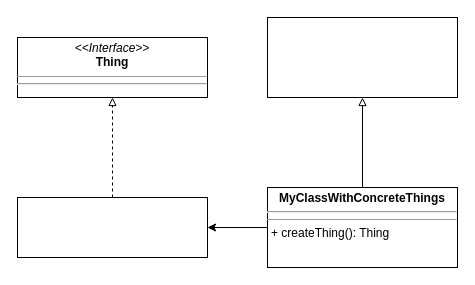
The diagram is 475 pixels wide and 285 high, and some of its shapes have lost their labels. Here are the shapes that lost their labels. From the top down, the centre of each, then its label:
At point (362, 57): "MyClass + createThing(): Thing + operationThatNeedsThing()".
At point (112, 227): "ConcreteThingA".
